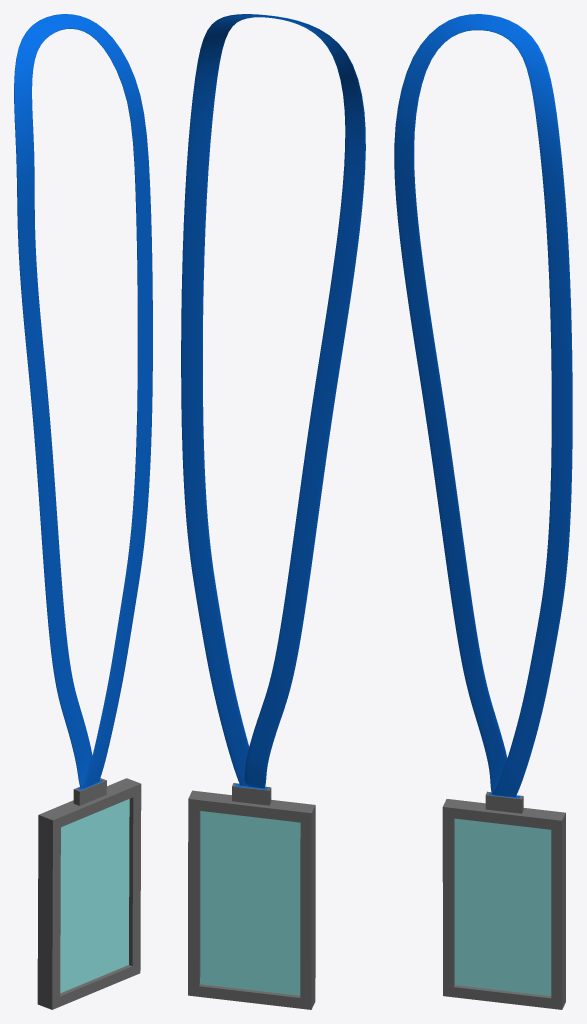
File: IdBadge.fbx
3 views of the same model, side by side, from view 1: azimuth 30°, elevation 25°; view 2: azimuth 150°, elevation 25°; view 3: azimuth 330°, elevation 25° (orthographic). The views are drawn at different scales.
Visible parts, largest first — view 1: ID; view 2: ID; view 3: ID.
Part boxes in pixels (x1,y1,x2,y2): ID: (14,14,152,1009); ID: (181,14,365,1009); ID: (394,14,572,1009).
Size of the model in its own units: 86.6 by 510 by 33.41.
